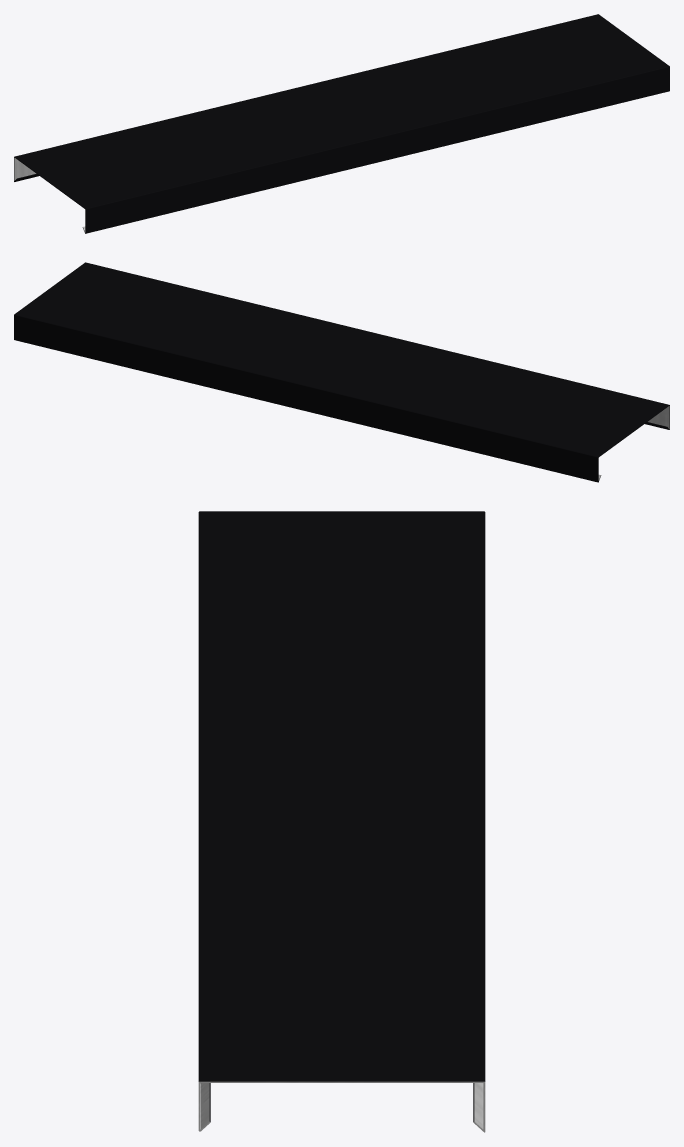
File: couvertine-test.gltf
3 views of the same model, one above another, from view 1: azimuth 30°, elevation 25°; view 2: azimuth 150°, elevation 25°; view 3: azimuth 270°, elevation 25° (orthographic). The views are drawn at different scales.
Parts seen in each view (by area): view 1: couvertine à coller; view 2: couvertine à coller; view 3: couvertine à coller.
Boxes of the visible parts, left/top/right/bottom form: couvertine à coller: left=14, top=14, right=669, bottom=233; couvertine à coller: left=14, top=262, right=669, bottom=482; couvertine à coller: left=198, top=511, right=485, bottom=1132.
Bounding box in the file's own units: 0.9408 × 0.0393 × 0.2.
Materials: 2 (1 with a texture image).
